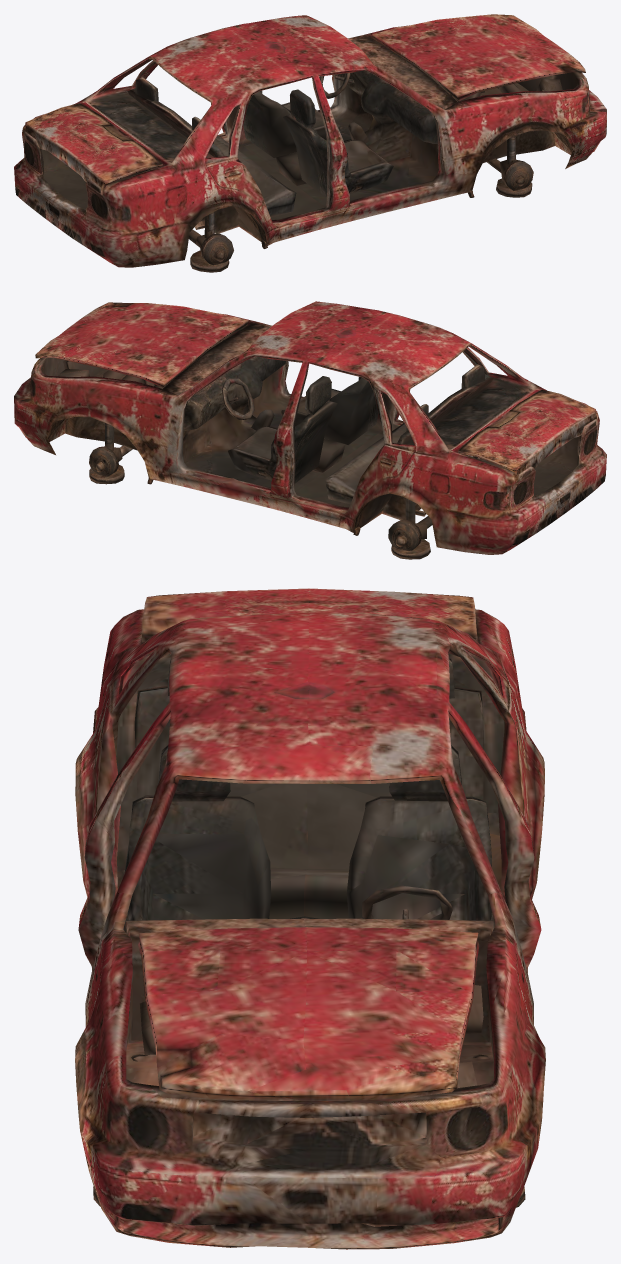
The model's file is skyways-wreck-sedan-stripped.glb.
3 views of the same model, one above another, from view 1: azimuth 30°, elevation 25°; view 2: azimuth 150°, elevation 25°; view 3: azimuth 270°, elevation 25° (orthographic). The views are drawn at different scales.
Visible parts, largest first — view 1: skyways-wreck-sedan-stripped; view 2: skyways-wreck-sedan-stripped; view 3: skyways-wreck-sedan-stripped.
Part boxes in pixels (x1=…): skyways-wreck-sedan-stripped: x1=14, y1=14, x2=606, y2=272; skyways-wreck-sedan-stripped: x1=14, y1=301, x2=606, y2=559; skyways-wreck-sedan-stripped: x1=75, y1=588, x2=545, y2=1249.
Size of the model in its own units: 4.6 by 1.37 by 1.83.
Materials: 1 (1 with a texture image).
